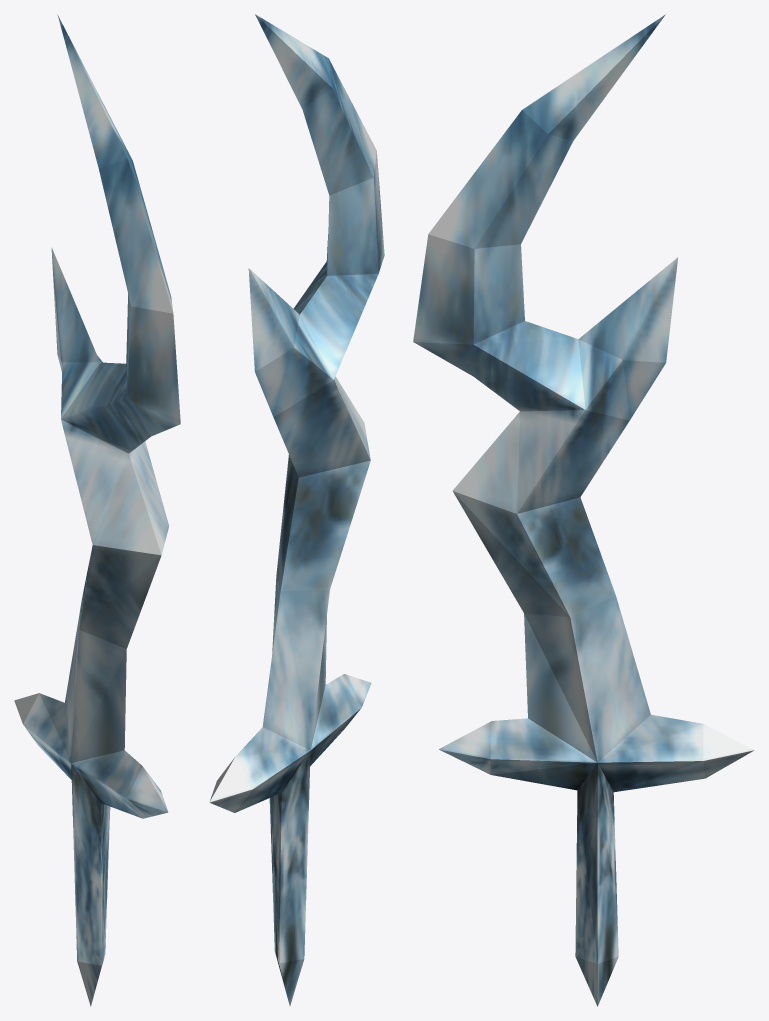
Rendered from blademaster06.obj.
The picture shows the model from 3 angles, left to right: view 1: azimuth 30°, elevation 25°; view 2: azimuth 150°, elevation 25°; view 3: azimuth 270°, elevation 25°; orthographic projection. The views are drawn at different scales.
Visible parts, largest first — view 1: MDL_cw1hsw06; view 2: MDL_cw1hsw06; view 3: MDL_cw1hsw06.
Boxes of the visible parts, box(x1,y1,x2,y2) form: MDL_cw1hsw06: box(14, 14, 180, 1006); MDL_cw1hsw06: box(209, 14, 384, 1005); MDL_cw1hsw06: box(413, 14, 754, 1006).
Bounding box in the file's own units: 0.1125 × 1.36 × 0.4238.
